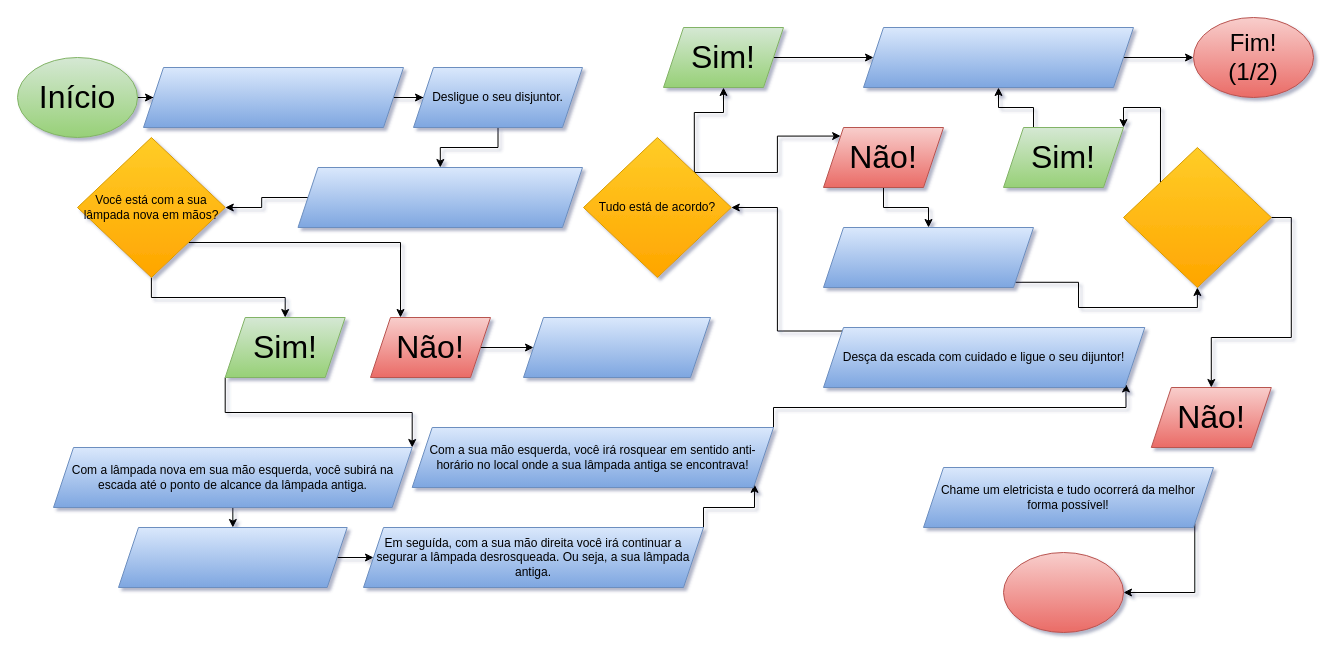
The diagram is 1337 pixels wide and 656 high, and some of its shapes have lost their labels. The centre of each missing label's shape, as x and y in pixels:
Com a sua mão direita, você irá desrosquear em sentido horário a lâmpada antiga.: (x=232, y=557)
Então abra um sorriso! Tudo está certinho!: (x=998, y=57)
Fim! (2/2): (x=1063, y=592)
Fique calmo! Revise todos os processos novamente.: (x=928, y=257)
Pegue a lâmpada nova.: (x=616, y=347)
Pegue os devidos utensílios (Escada e a lâmpada nova).: (x=273, y=97)
Posicione a escada abaixo da lâmpada que precisará ser alterada.: (x=439, y=197)
Revisou e tudo ocorreu de acordo?: (x=1196, y=217)
